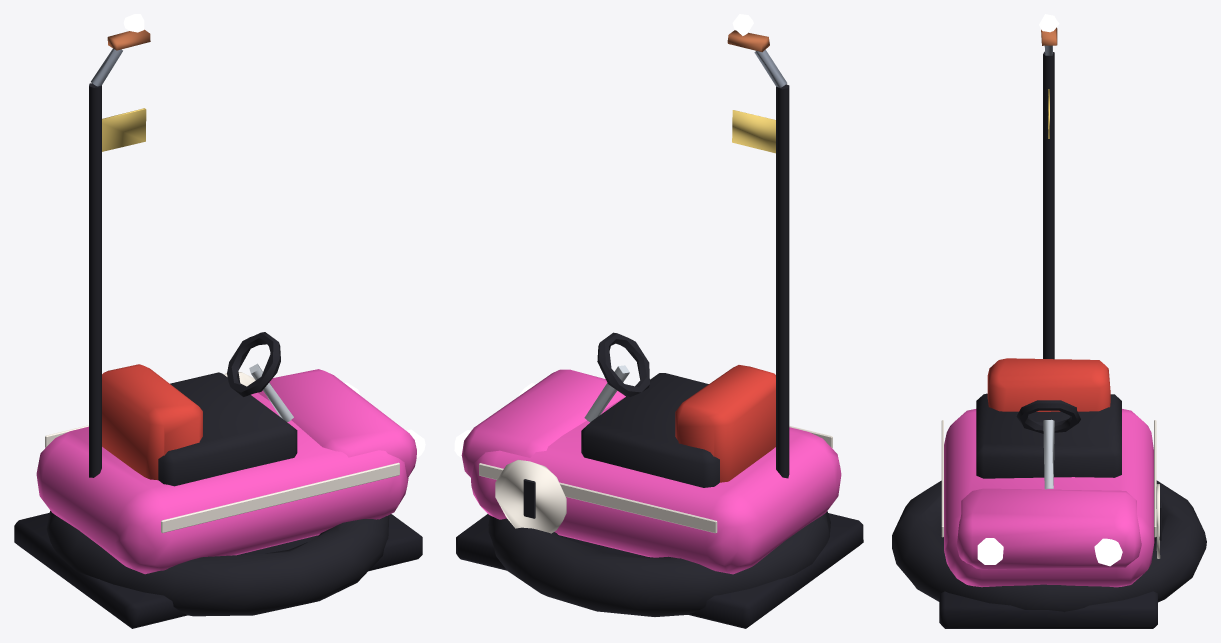
The model's file is bumper_car.glb.
3 views of the same model, side by side, from view 1: azimuth 30°, elevation 25°; view 2: azimuth 150°, elevation 25°; view 3: azimuth 270°, elevation 25° (orthographic). The views are drawn at different scales.
Visible parts, largest first — view 1: bumper_car; view 2: bumper_car; view 3: bumper_car.
Boxes of the visible parts, x1,y1,x2,y2 form: bumper_car: [14, 14, 425, 628]; bumper_car: [454, 14, 863, 628]; bumper_car: [892, 14, 1206, 628].
Size of the model in its own units: 1.61 by 2.69 by 1.5.
Materials: 1 (1 with a texture image).
